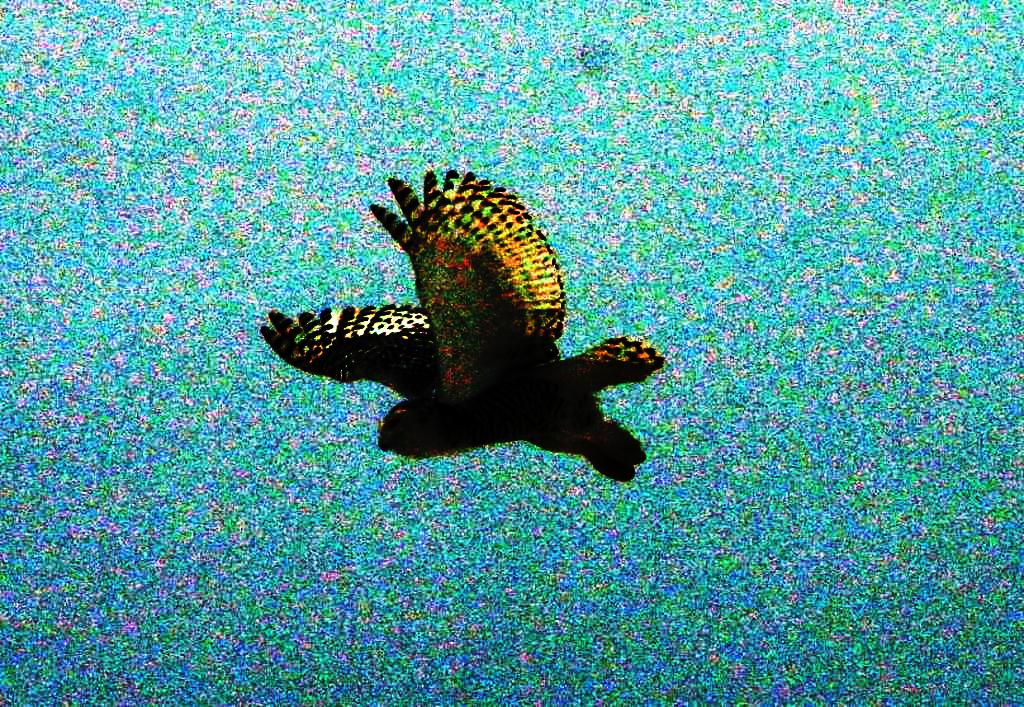Owl: (265, 167, 664, 479)
